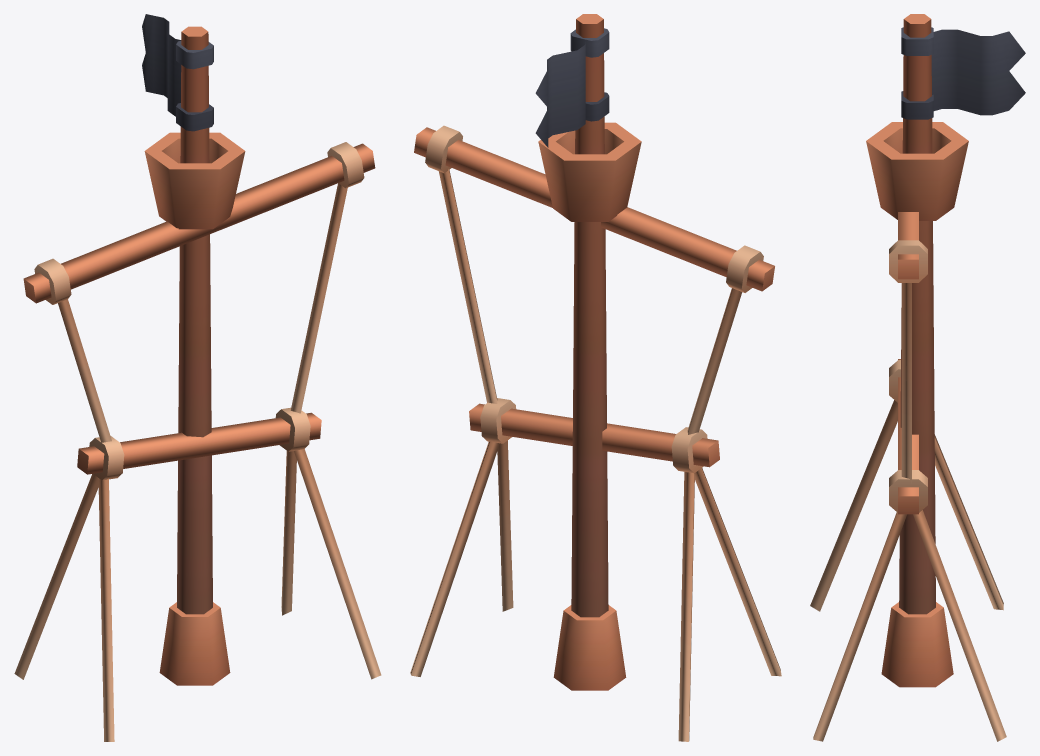
The model's file is kenney-pirate-kit-mast-ropes.glb.
3 views of the same model, side by side, from view 1: azimuth 30°, elevation 25°; view 2: azimuth 150°, elevation 25°; view 3: azimuth 270°, elevation 25° (orthographic). The views are drawn at different scales.
Parts seen in each view (by area): view 1: mast-ropes, sail-a, flag-c; view 2: mast-ropes, sail-a, flag-c; view 3: mast-ropes, flag-c, sail-a.
Boxes of the visible parts, x1,y1,x2,y2 form: mast-ropes: (14, 26, 381, 741); sail-a: (23, 142, 375, 480); flag-c: (142, 14, 213, 131); mast-ropes: (410, 14, 781, 741); sail-a: (414, 125, 774, 473); flag-c: (535, 28, 609, 147); mast-ropes: (810, 14, 1006, 741); flag-c: (901, 27, 1025, 119); sail-a: (889, 212, 927, 514).
Bounding box in the file's own units: 2.5 × 4.5 × 1.34.
Materials: 1 (1 with a texture image).
